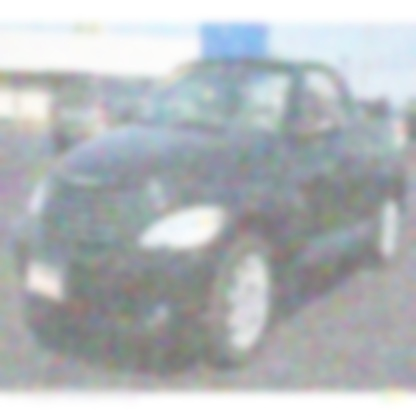Vehicle: (11, 56, 409, 372)
